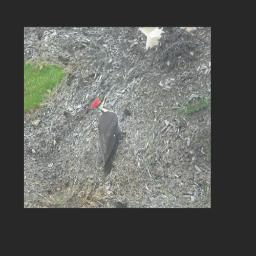Woodpecker: (76, 86, 141, 178)
